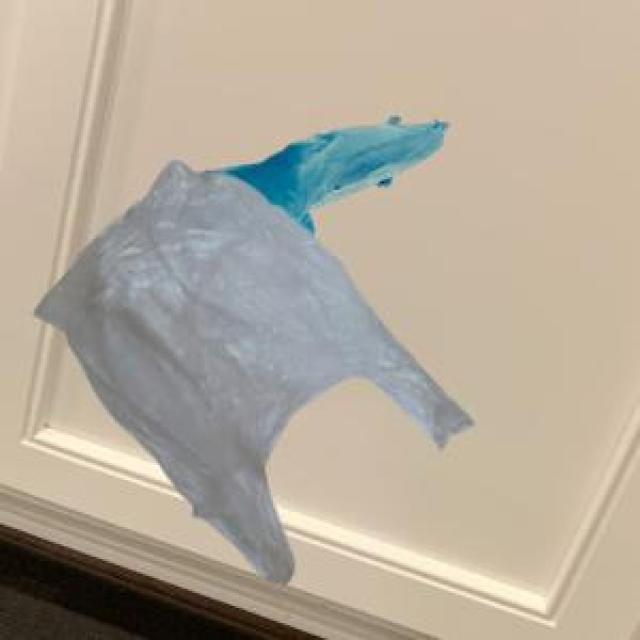waste: (36, 116, 472, 582)
